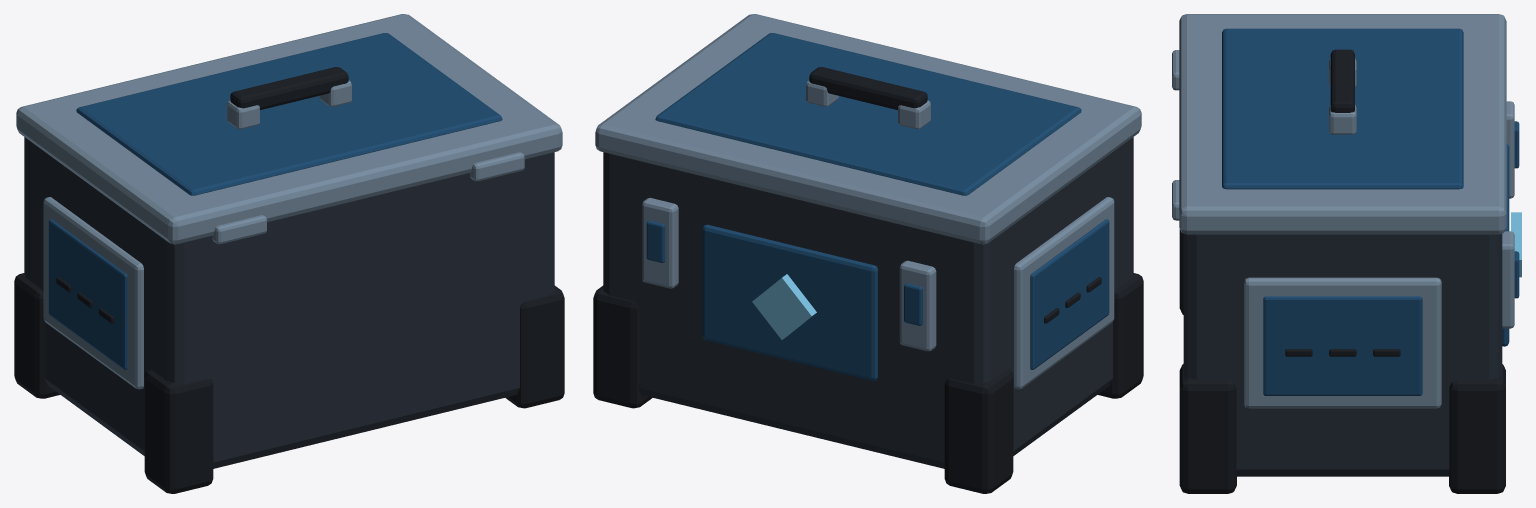
The picture shows the model from 3 angles, left to right: view 1: azimuth 30°, elevation 25°; view 2: azimuth 150°, elevation 25°; view 3: azimuth 270°, elevation 25°; orthographic projection. The views are drawn at different scales.
Visible parts, largest first — view 1: foundry_crate; view 2: foundry_crate; view 3: foundry_crate.
Part boxes in pixels (bbox=[...]): foundry_crate: bbox=[14, 14, 564, 493]; foundry_crate: bbox=[593, 14, 1143, 493]; foundry_crate: bbox=[1172, 14, 1521, 493].
Size of the model in its own units: 0.896 by 0.645 by 0.637.
